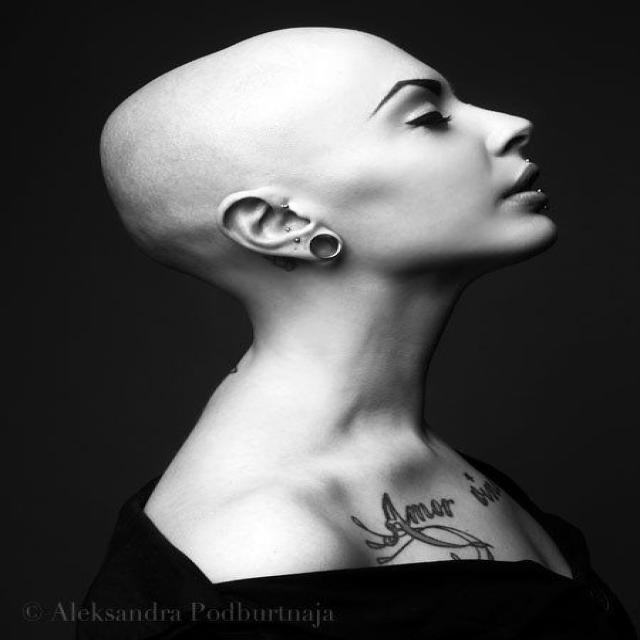no_helmet: (59, 15, 520, 254)
